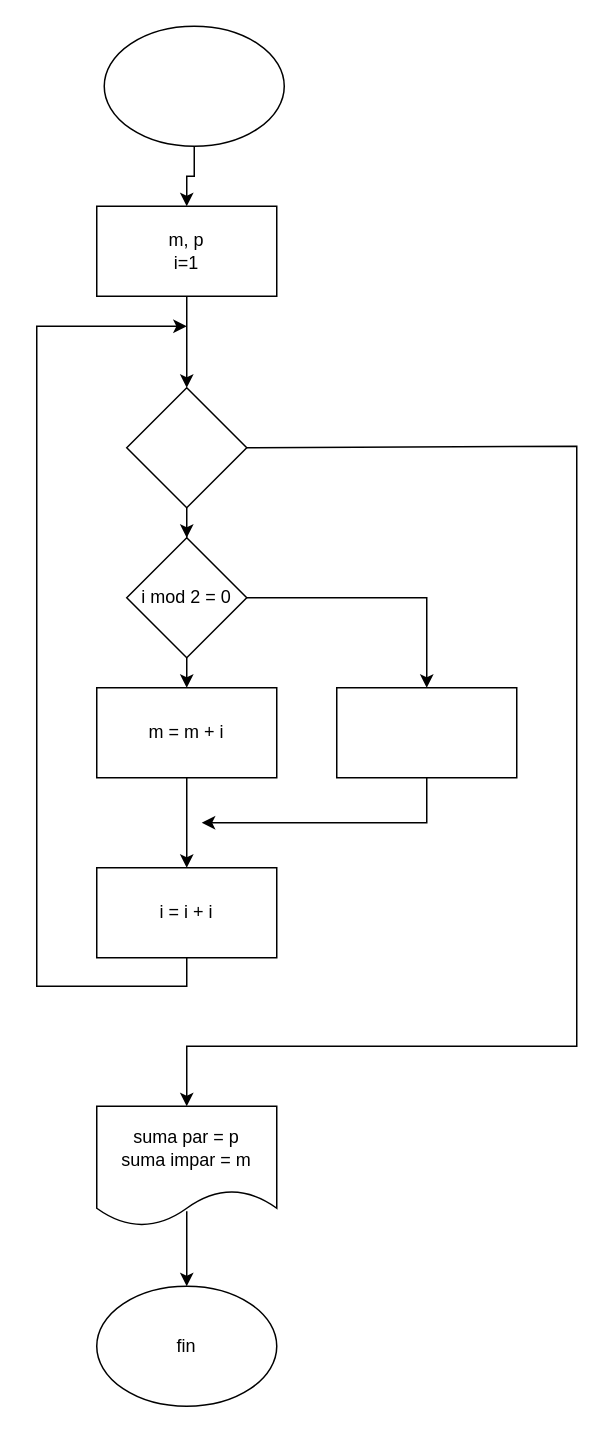
Image size: 615x1433. Some labels were removed from this diagram. The centre of each missing label's shape, as x and y in pixels:
inicio: the point at 193,85
i≤20: the point at 186,447
p = p + i: the point at 426,732
